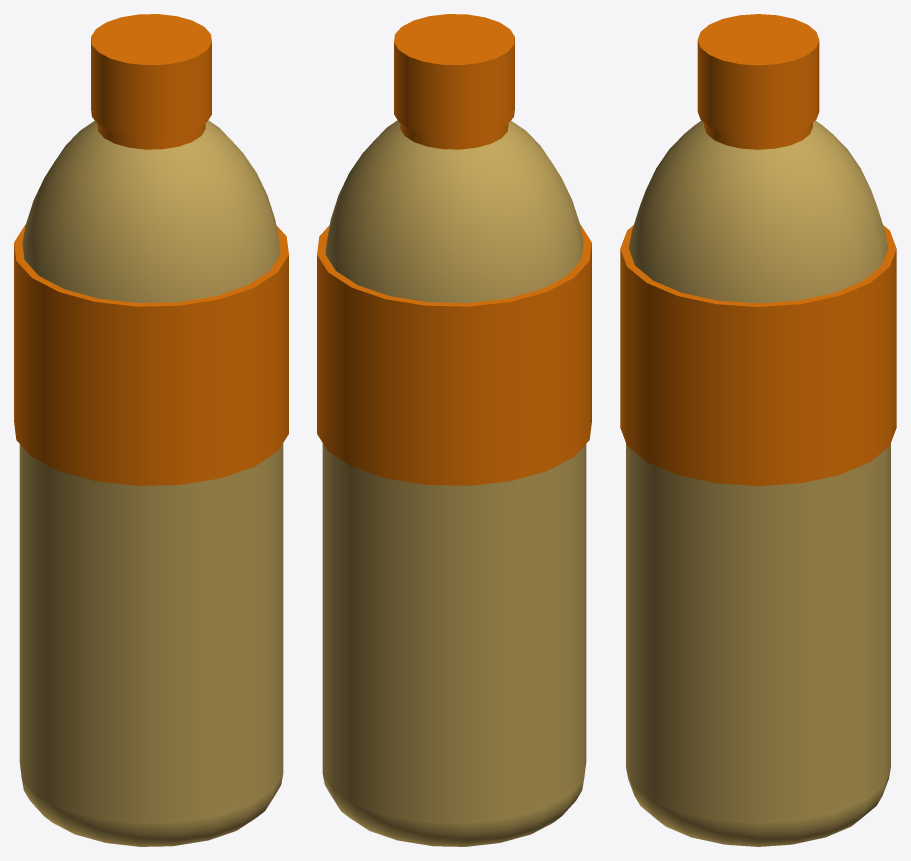
Rendered from fanta bottle.fbx.
3 views of the same model, side by side, from view 1: azimuth 30°, elevation 25°; view 2: azimuth 150°, elevation 25°; view 3: azimuth 270°, elevation 25° (orthographic).
Visible parts, largest first — view 1: polySurface13, polySurface14, polySurface17, polySurface16, polySurface18, polySurface19; view 2: polySurface13, polySurface14, polySurface17, polySurface16, polySurface18, polySurface19; view 3: polySurface13, polySurface14, polySurface17, polySurface16, polySurface18, polySurface19.
Part boxes in pixels (box(x1,y1,x2,y2)): polySurface13: box(19, 443, 283, 821); polySurface14: box(14, 224, 288, 485); polySurface17: box(22, 120, 280, 302); polySurface16: box(91, 14, 211, 137); polySurface18: box(19, 760, 283, 846); polySurface19: box(97, 123, 205, 149); polySurface13: box(322, 443, 586, 821); polySurface14: box(317, 224, 591, 485); polySurface17: box(325, 120, 583, 302); polySurface16: box(394, 14, 514, 137); polySurface18: box(322, 760, 586, 846); polySurface19: box(400, 123, 508, 149); polySurface13: box(626, 443, 890, 821); polySurface14: box(620, 225, 896, 485); polySurface17: box(628, 120, 888, 303); polySurface16: box(697, 14, 819, 137); polySurface18: box(626, 765, 890, 846); polySurface19: box(704, 123, 812, 149).
Bounding box in the file's own units: 5.08 × 15.53 × 5.08.
